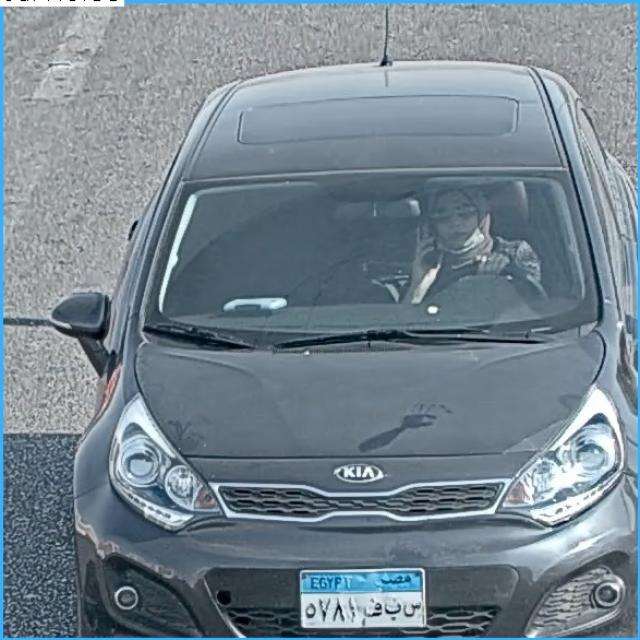windshield: (157, 180, 600, 328)
